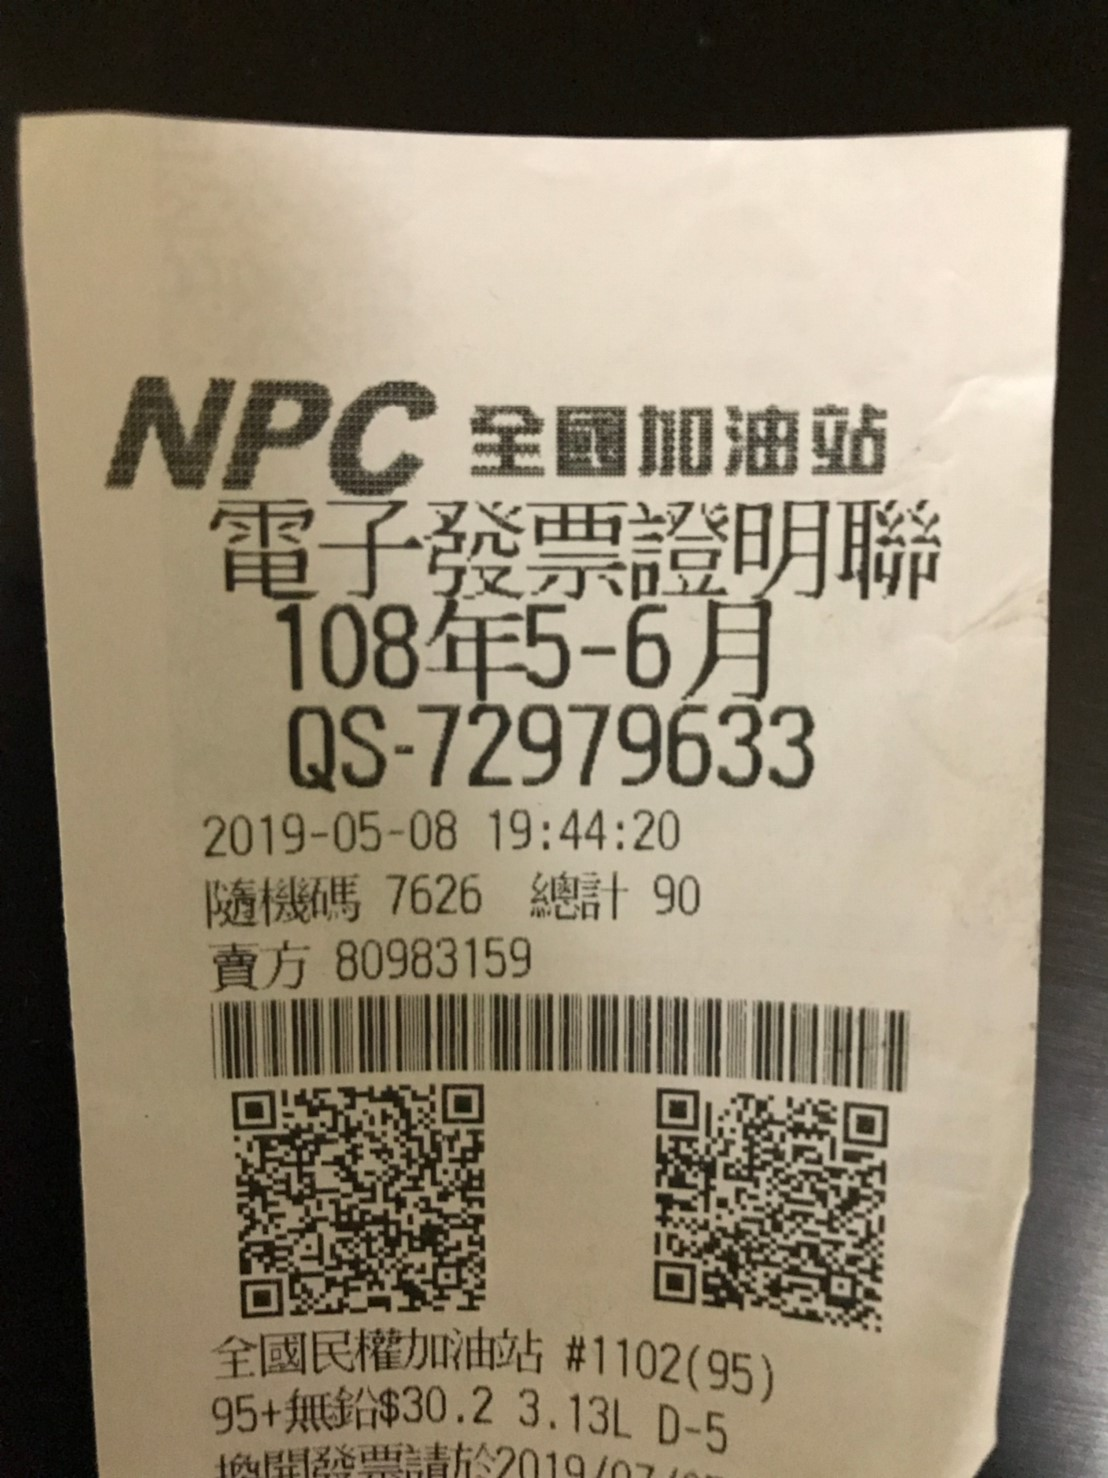Date_New: (267, 597, 783, 701)
Number_New: (417, 701, 824, 794)
